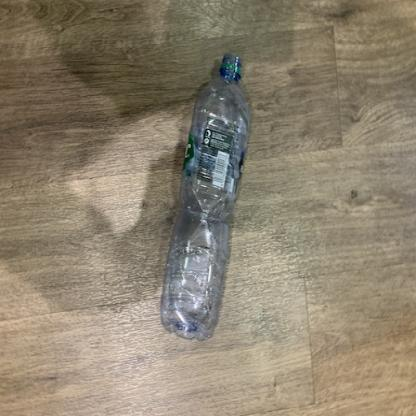trash: (160, 53, 252, 342)
